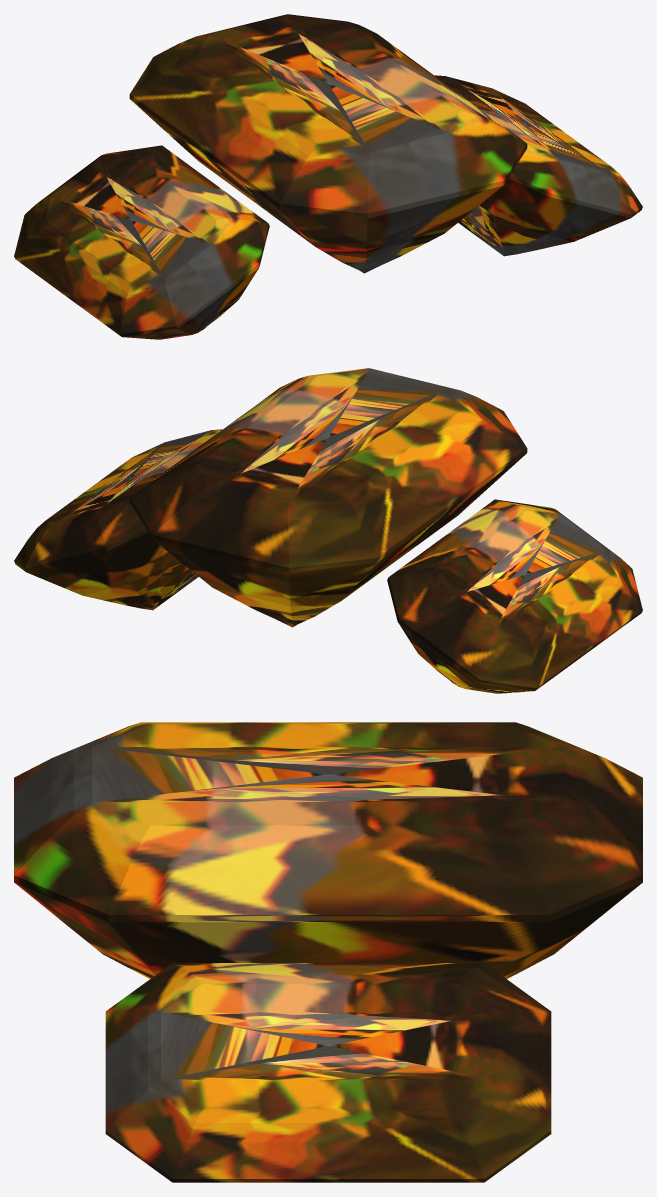
3 views of the same model, one above another, from view 1: azimuth 30°, elevation 25°; view 2: azimuth 150°, elevation 25°; view 3: azimuth 270°, elevation 25° (orthographic). The views are drawn at different scales.
Parts seen in each view (by area): view 1: Object_1, Object_4, Object_3; view 2: Object_1, Object_4, Object_3; view 3: Object_1, Object_3.
Boxes of the visible parts, left/top/right/bottom form: Object_1: left=129, top=14, right=527, bottom=273; Object_4: left=14, top=145, right=269, bottom=339; Object_3: left=435, top=75, right=642, bottom=256; Object_1: left=129, top=368, right=527, bottom=627; Object_4: left=387, top=499, right=642, bottom=693; Object_3: left=14, top=429, right=221, bottom=610; Object_1: left=14, top=722, right=642, bottom=978; Object_3: left=105, top=963, right=551, bottom=1182.
Size of the model in its own units: 17.92 by 12.73 by 6.25.
Materials: 1 (1 with a texture image).
